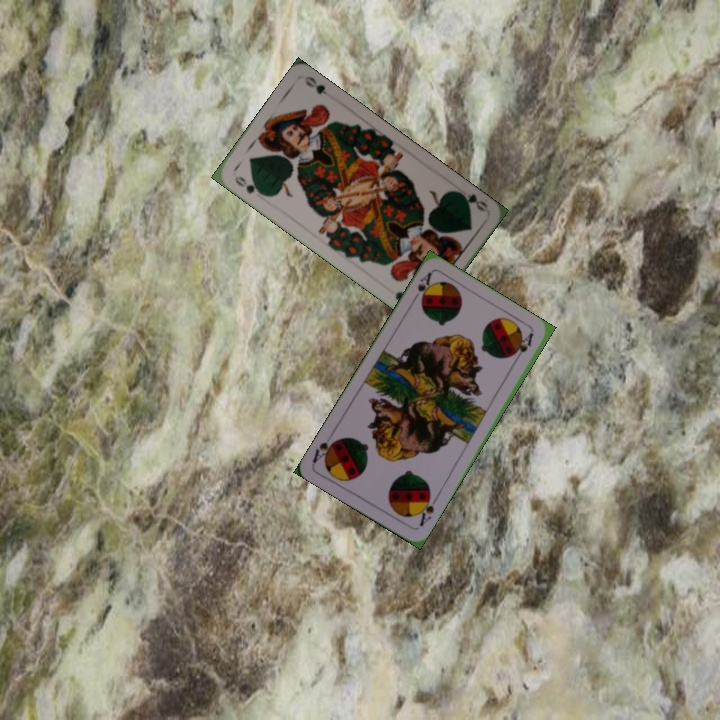GO: (452, 187, 491, 214), (231, 172, 267, 198)
SA: (413, 490, 440, 529), (408, 268, 435, 307)
